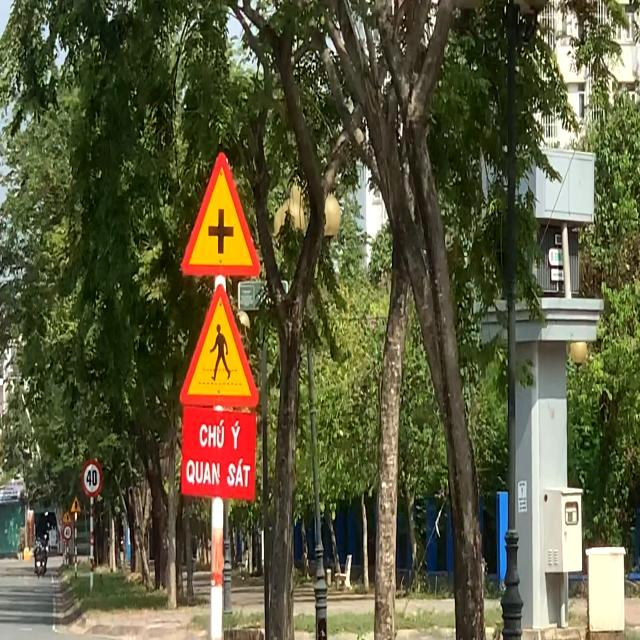Nguoi di bo cat ngang: (178, 282, 260, 410)
Toc do toi da cho phep: (81, 458, 102, 498), (64, 524, 72, 540)
